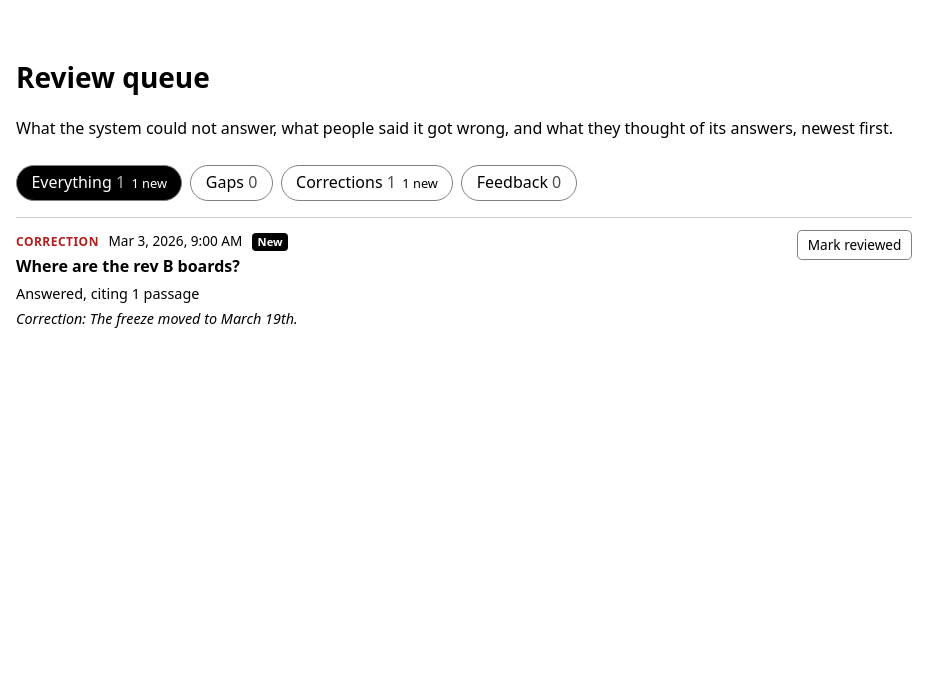
Scenario: the review page › opens a row to the full record, read again from the API
Click the button "Where are the rev B boards" at (57, 241), box [16,230,781,330]
(page scrolled)
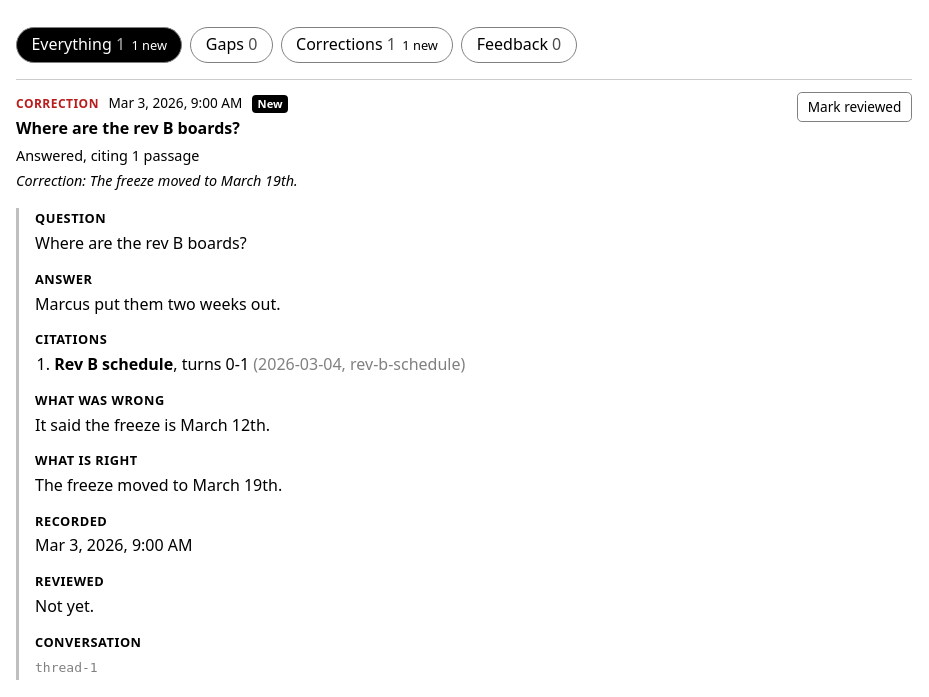
expect the element with id "record-corrections-5" is shown: met
